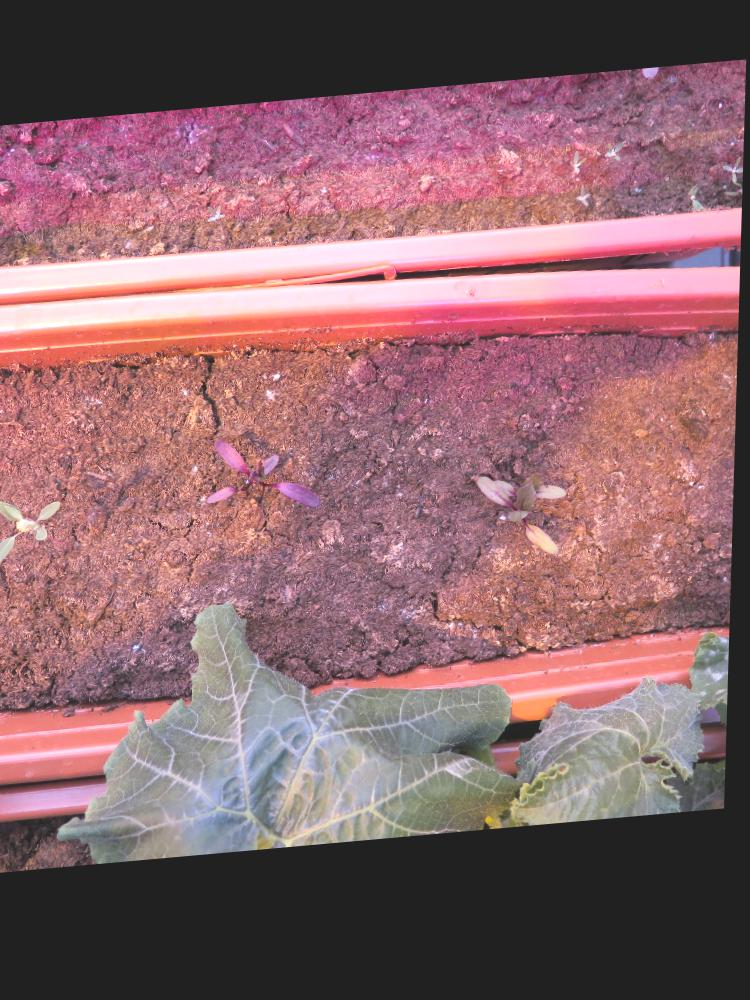weed: (0, 495, 69, 572), (571, 194, 595, 221), (601, 152, 628, 176), (569, 160, 592, 187)
